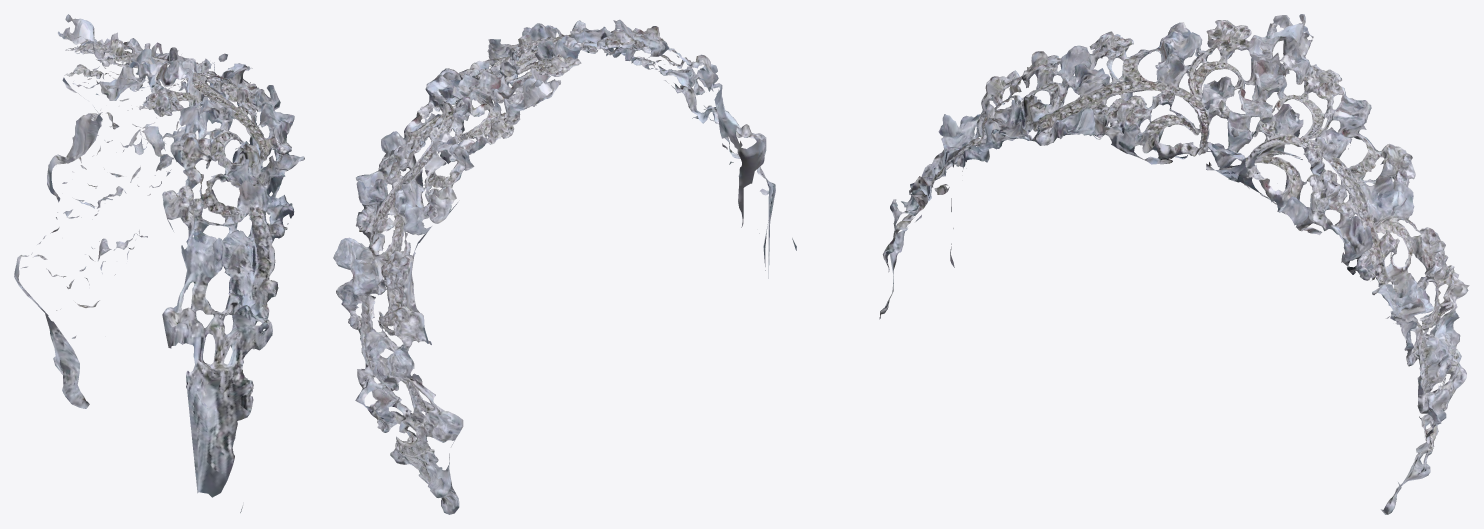
The model's file is corona3.glb.
The picture shows the model from 3 angles, left to right: view 1: azimuth 30°, elevation 25°; view 2: azimuth 150°, elevation 25°; view 3: azimuth 270°, elevation 25°; orthographic projection. The views are drawn at different scales.
Parts seen in each view (by area): view 1: f2402011-9733-4084-b534-021a19fa1658; view 2: f2402011-9733-4084-b534-021a19fa1658; view 3: f2402011-9733-4084-b534-021a19fa1658.
Part boxes in pixels (x1,y1,x2,y2): f2402011-9733-4084-b534-021a19fa1658: [14, 14, 304, 512]; f2402011-9733-4084-b534-021a19fa1658: [333, 19, 796, 514]; f2402011-9733-4084-b534-021a19fa1658: [879, 14, 1469, 514].
Size of the model in its own units: 0.6078 by 1.07 by 1.32.
1 material, 1 textured.
